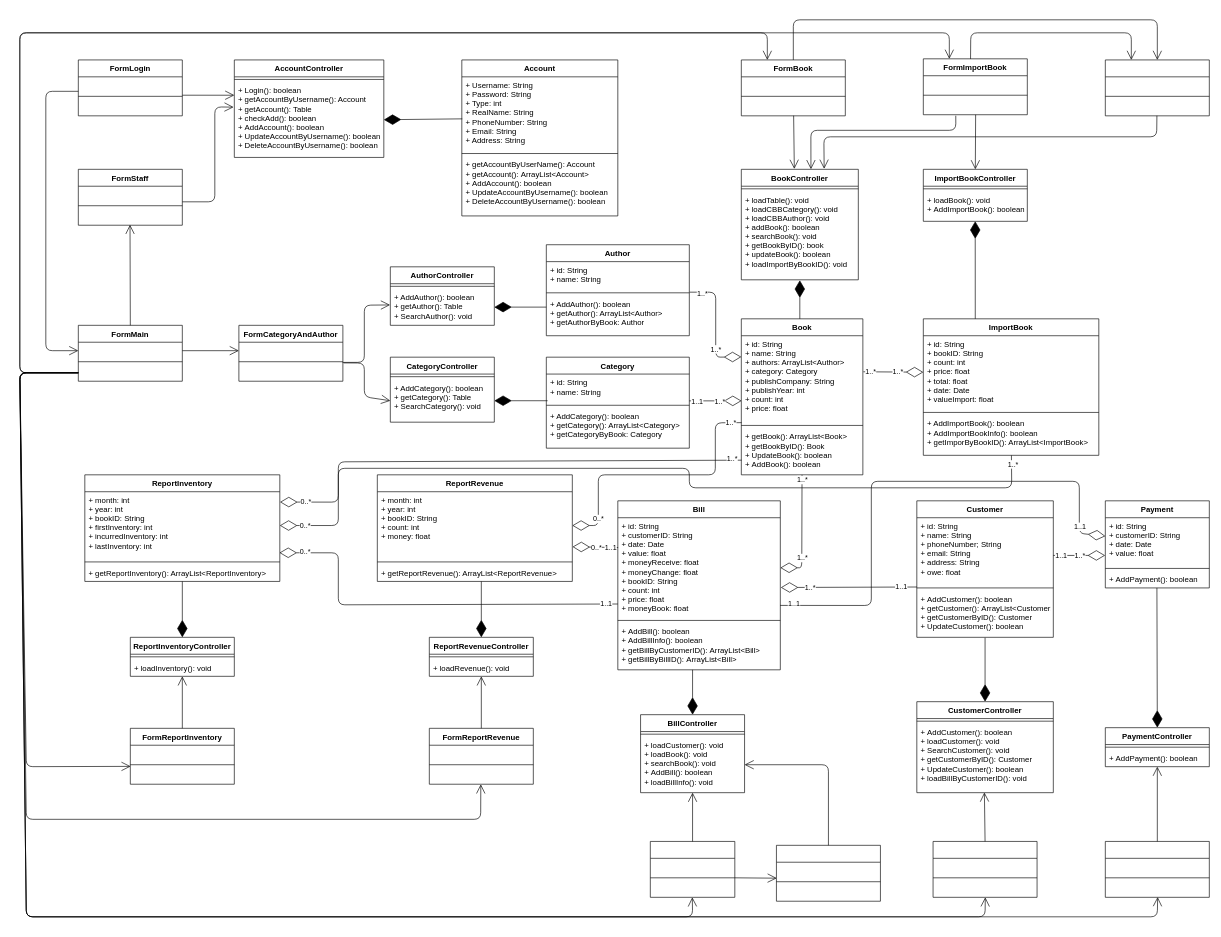
Some shapes in this 1221 by 937 pixel diagram are drawn without their labels. Each missing label, with the centre of its shape:
FormBill: point (692, 869)
FormBillInfo: point (828, 873)
FormBookInfo: point (1157, 87)
FormCustomer: point (984, 869)
FormPayment: point (1157, 869)
